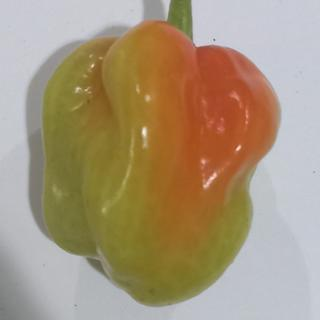Grade-A: (35, 14, 284, 306)
